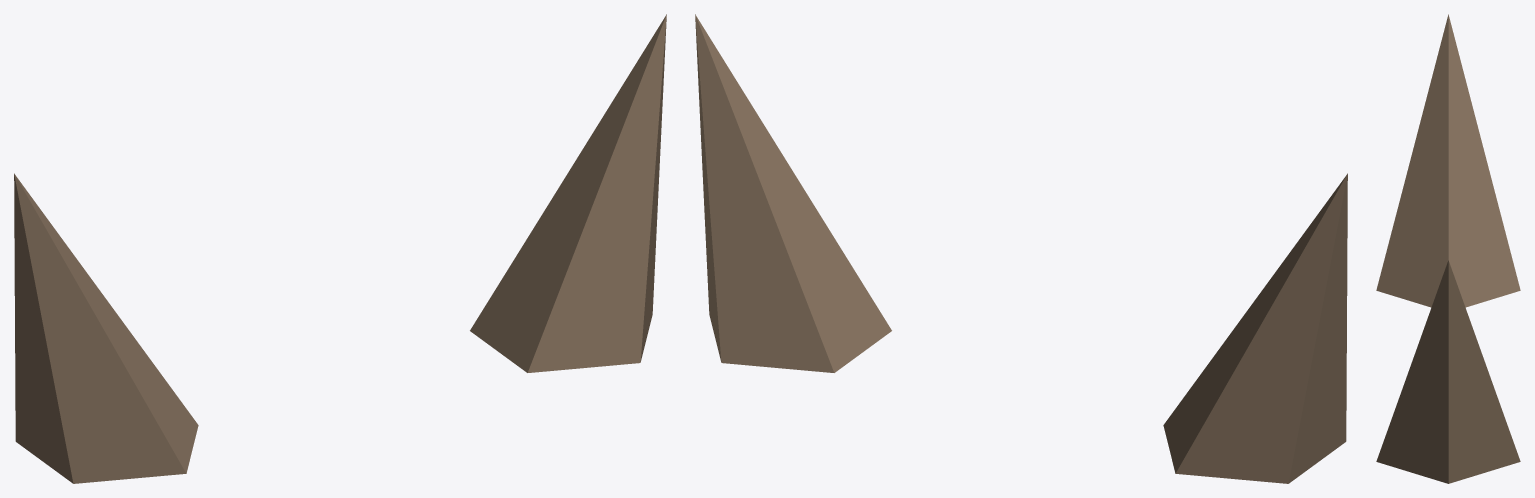
Rendered from owl_tufts.glb.
3 renders of one model, left to right at view 1: azimuth 30°, elevation 25°; view 2: azimuth 150°, elevation 25°; view 3: azimuth 270°, elevation 25°, orthographic. The views are drawn at different scales.
Parts seen in each view (by area): view 1: owl_tufts; view 2: owl_tufts; view 3: owl_tufts.
Part boxes in pixels (x1,y1,x2,y2): owl_tufts: [14, 14, 666, 483]; owl_tufts: [695, 14, 1347, 483]; owl_tufts: [1376, 14, 1520, 483].
Bounding box in the file's own units: 0.23 × 0.1 × 0.0571.
